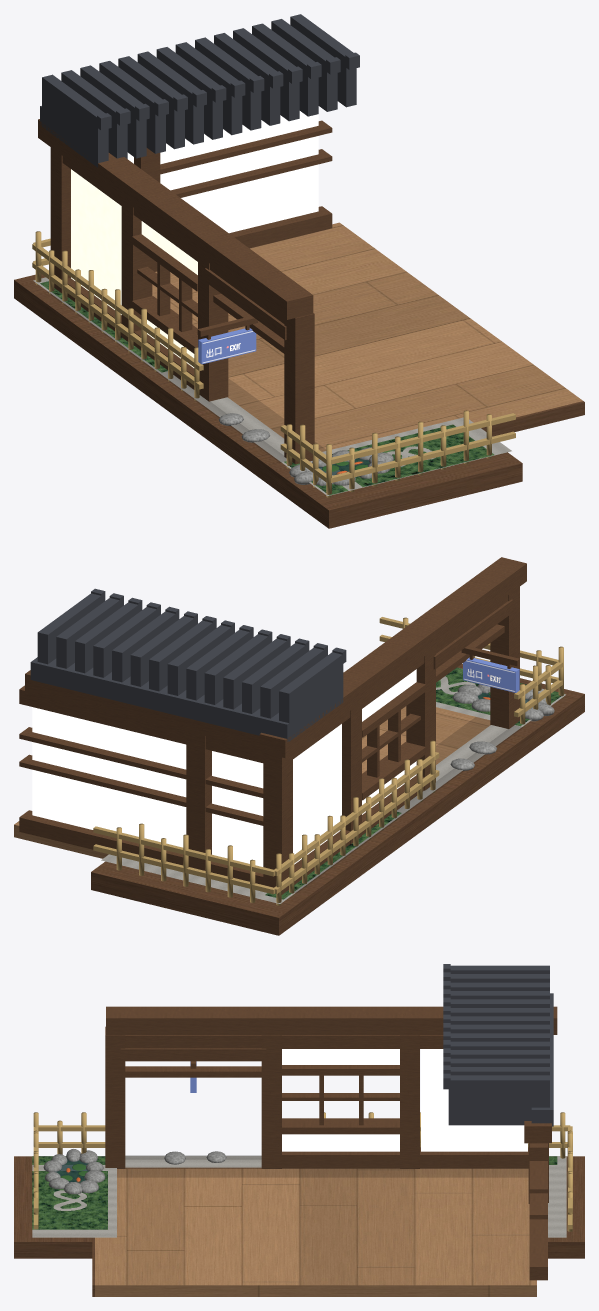
The model's file is cafe-annex.glb.
3 views of the same model, one above another, from view 1: azimuth 30°, elevation 25°; view 2: azimuth 150°, elevation 25°; view 3: azimuth 270°, elevation 25° (orthographic). The views are drawn at different scales.
Parts seen in each view (by area): view 1: AnnexFloor, AnnexTimber, AnnexRoof, AnnexShoji, AnnexPlate, AnnexFence, AnnexGravel, AnnexMoss, AnnexAO, AnnexExitSign, AnnexStep, AnnexPondStones; view 2: AnnexTimber, AnnexRoof, AnnexShoji, AnnexPlate, AnnexFence, AnnexGravel, AnnexFloor, AnnexAO, AnnexExitSign, AnnexMoss, AnnexPondStones, AnnexExitStones; view 3: AnnexFloor, AnnexTimber, AnnexRoof, AnnexShoji, AnnexPlate, AnnexGravel, AnnexAO, AnnexFence, AnnexMoss, AnnexPondStones, AnnexMetaMoss, AnnexExitStones.
Boxes of the visible parts, x1,y1,x2,y2 form: AnnexFloor: (152, 222, 582, 451); AnnexTimber: (38, 119, 332, 464); AnnexRoof: (40, 14, 359, 167); AnnexShoji: (71, 111, 318, 367); AnnexPlate: (14, 274, 522, 528); AnnexFence: (32, 231, 515, 497); AnnexGravel: (33, 277, 511, 495); AnnexMoss: (40, 281, 494, 495); AnnexAO: (48, 292, 325, 462); AnnexExitSign: (198, 328, 256, 364); AnnexStep: (481, 401, 584, 436); AnnexPondStones: (289, 447, 393, 485); AnnexTimber: (19, 557, 526, 894); AnnexRoof: (30, 588, 346, 741); AnnexShoji: (32, 669, 416, 866); AnnexPlate: (91, 664, 584, 935); AnnexFence: (93, 617, 563, 905); AnnexGravel: (101, 676, 565, 903); AnnexFloor: (14, 706, 490, 858); AnnexAO: (294, 717, 522, 892); AnnexExitSign: (463, 657, 519, 692); AnnexMoss: (265, 667, 564, 899); AnnexPondStones: (452, 684, 554, 721); AnnexExitStones: (450, 741, 497, 770); AnnexFloor: (95, 1168, 536, 1296); AnnexTimber: (105, 1006, 557, 1280); AnnexRoof: (443, 964, 553, 1126); AnnexShoji: (282, 1049, 527, 1151); AnnexPlate: (14, 1156, 584, 1258); AnnexGravel: (32, 1156, 566, 1237); AnnexAO: (117, 1155, 527, 1176); AnnexFence: (33, 1112, 572, 1231); AnnexMoss: (32, 1156, 557, 1229); AnnexPondStones: (43, 1149, 105, 1194); AnnexMetaMoss: (50, 1187, 90, 1212); AnnexExitStones: (164, 1151, 226, 1164).
Bounding box in the file's own units: 0.375 × 0.255 × 0.62.
16 materials, 11 textured.
